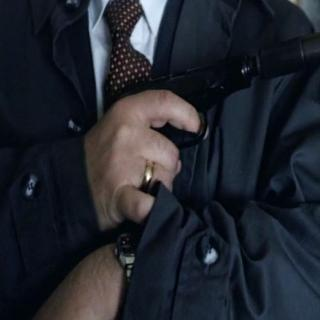gun: (110, 32, 316, 261)
